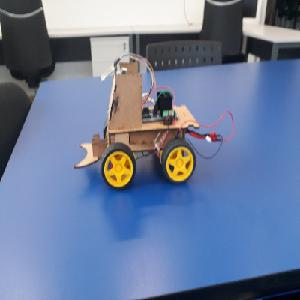Robot: (74, 59, 200, 191)
